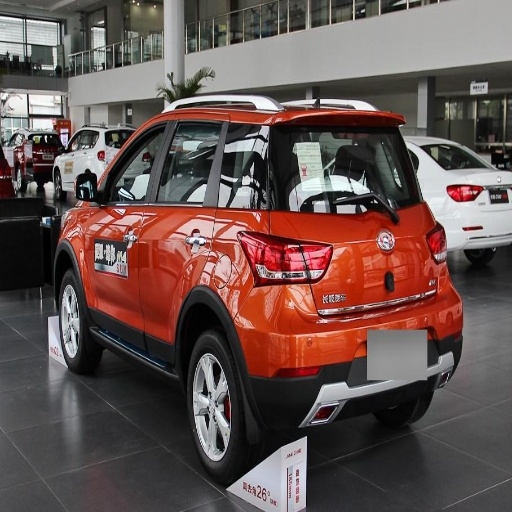back_bumper: (242, 242, 462, 424)
back_glass: (262, 124, 412, 211)
back_left_door: (139, 112, 244, 350)
trunk: (270, 208, 433, 319)
